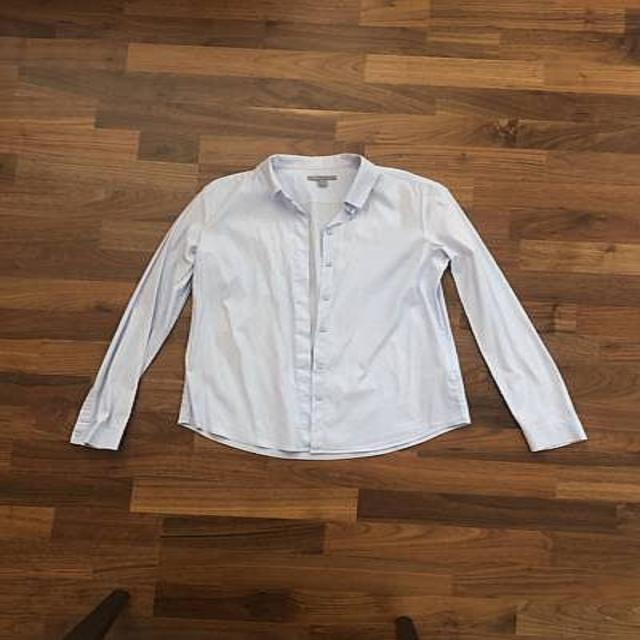SHIRT: (53, 127, 603, 483)
